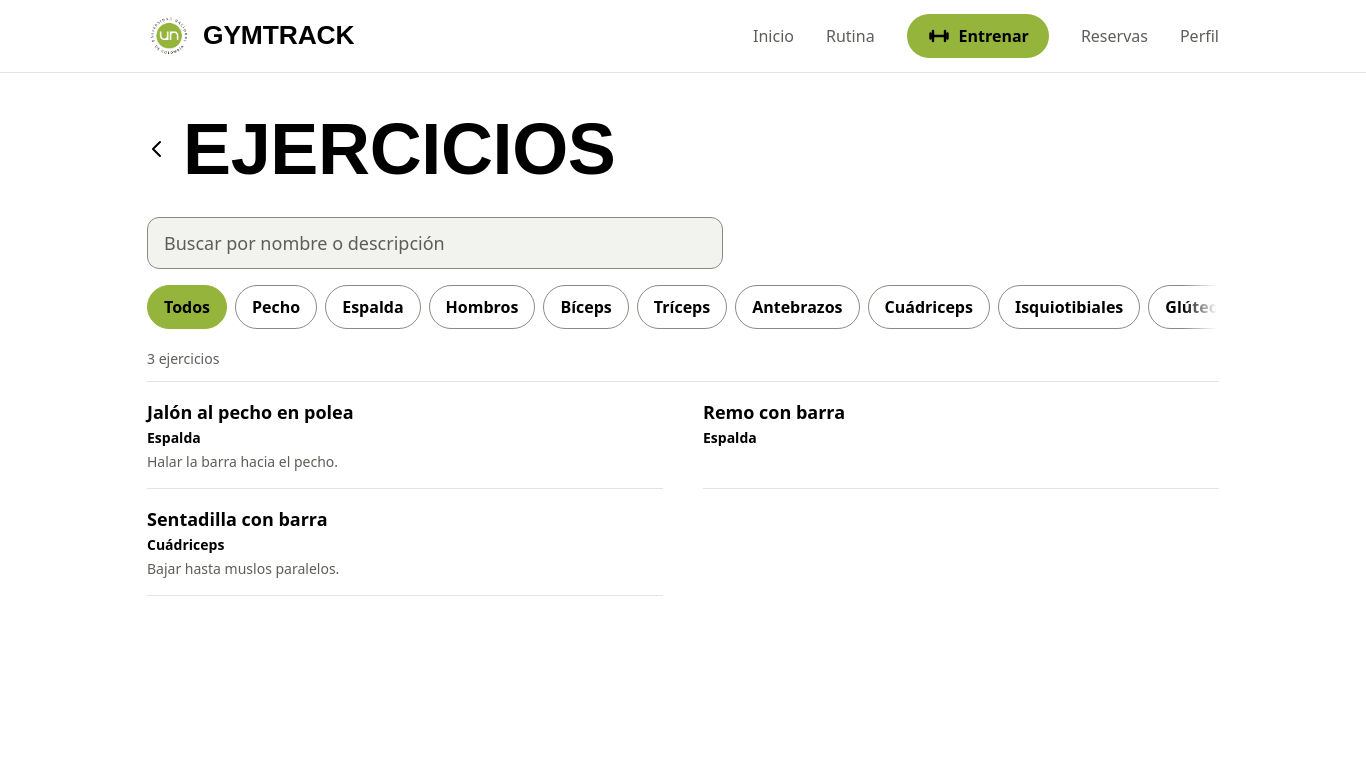
Test: catálogo de ejercicios: deportista (GYMM-12) › explica cuando nada coincide y permite quitar los filtros
The image size is (1366, 768).
Expected: the text "3 ejercicios" is shown, 147,349 -> 219,368
Type "natación" into the search field named "Buscar ejercicio". click: (435, 243)
box: 147,217 -> 723,269
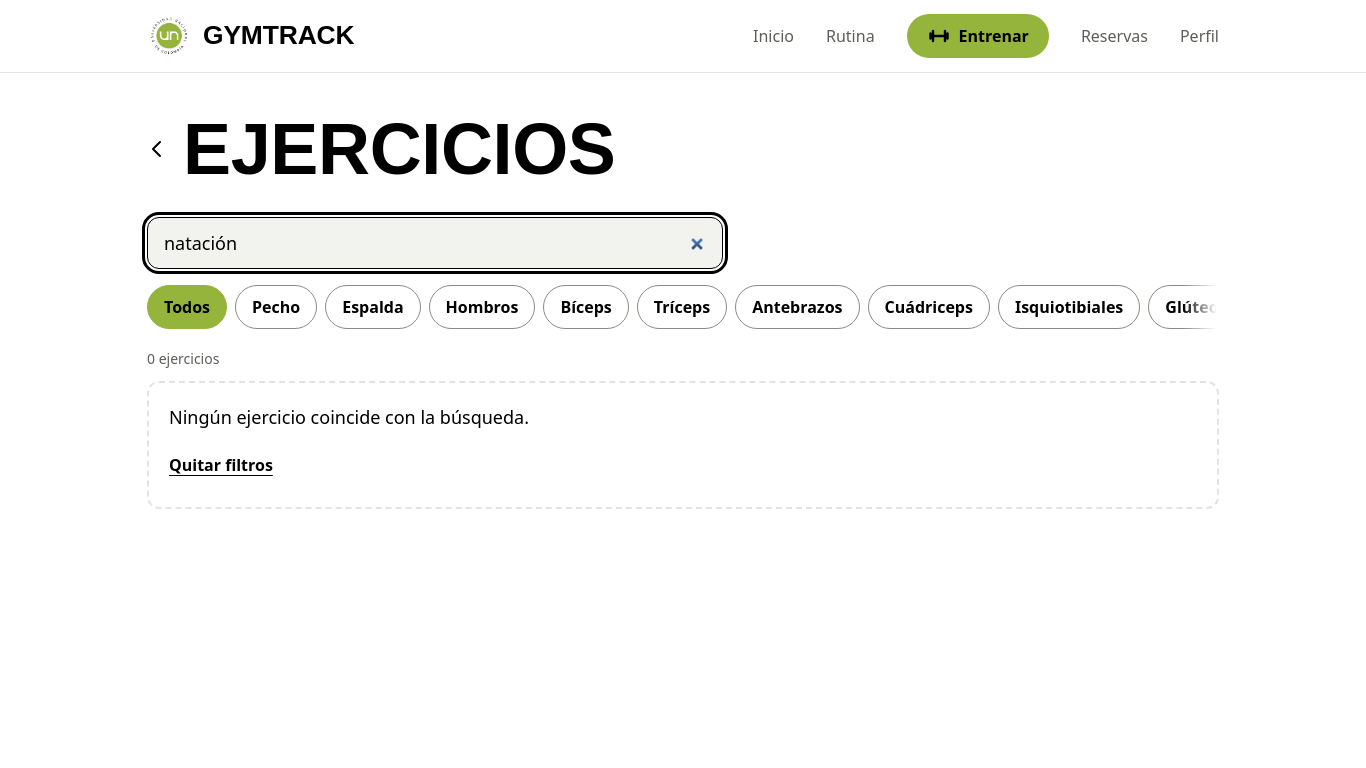
Result: the text "Ningún ejercicio coincide con la búsqueda." is shown at 169,405 -> 529,429
Click the button "Quitar filtros". click: (221, 465)
box: 169,443 -> 273,487
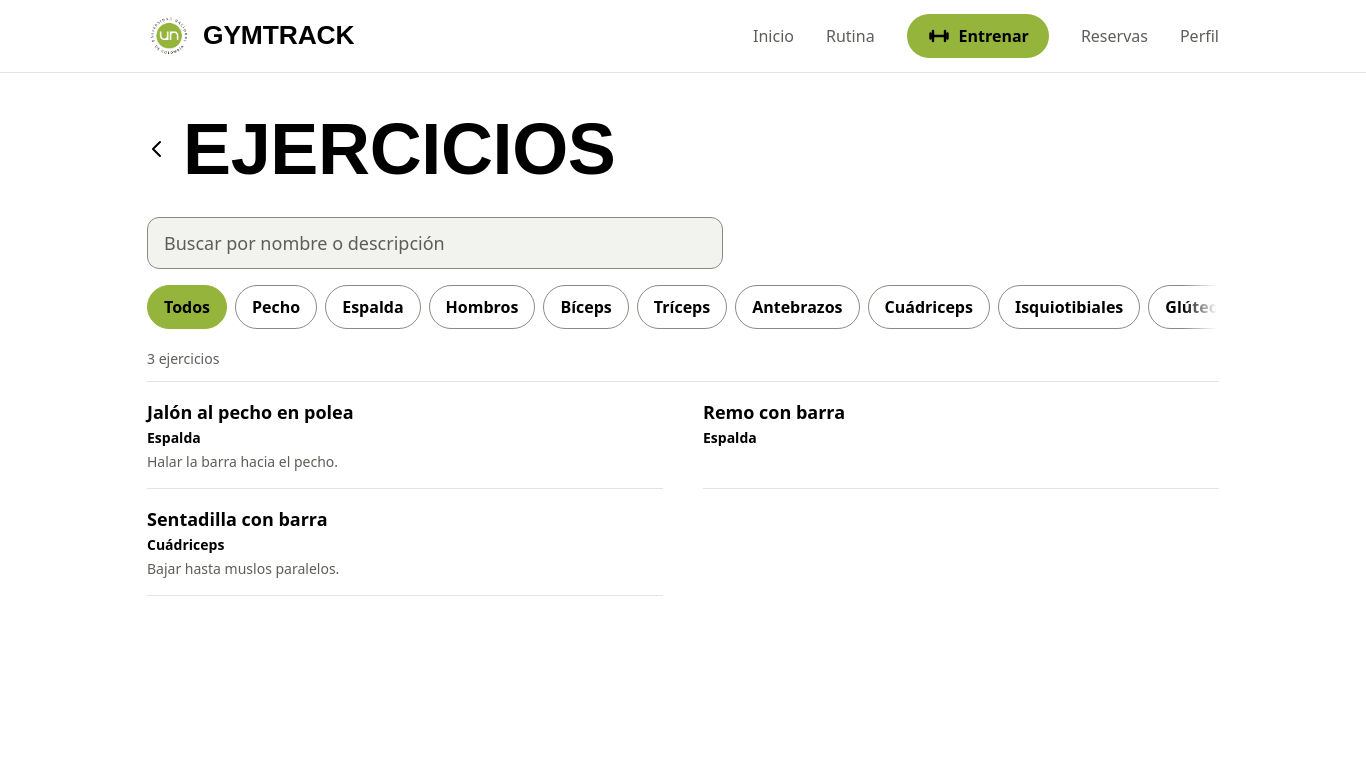
Result: the text "3 ejercicios" is shown at 147,349 -> 219,368
